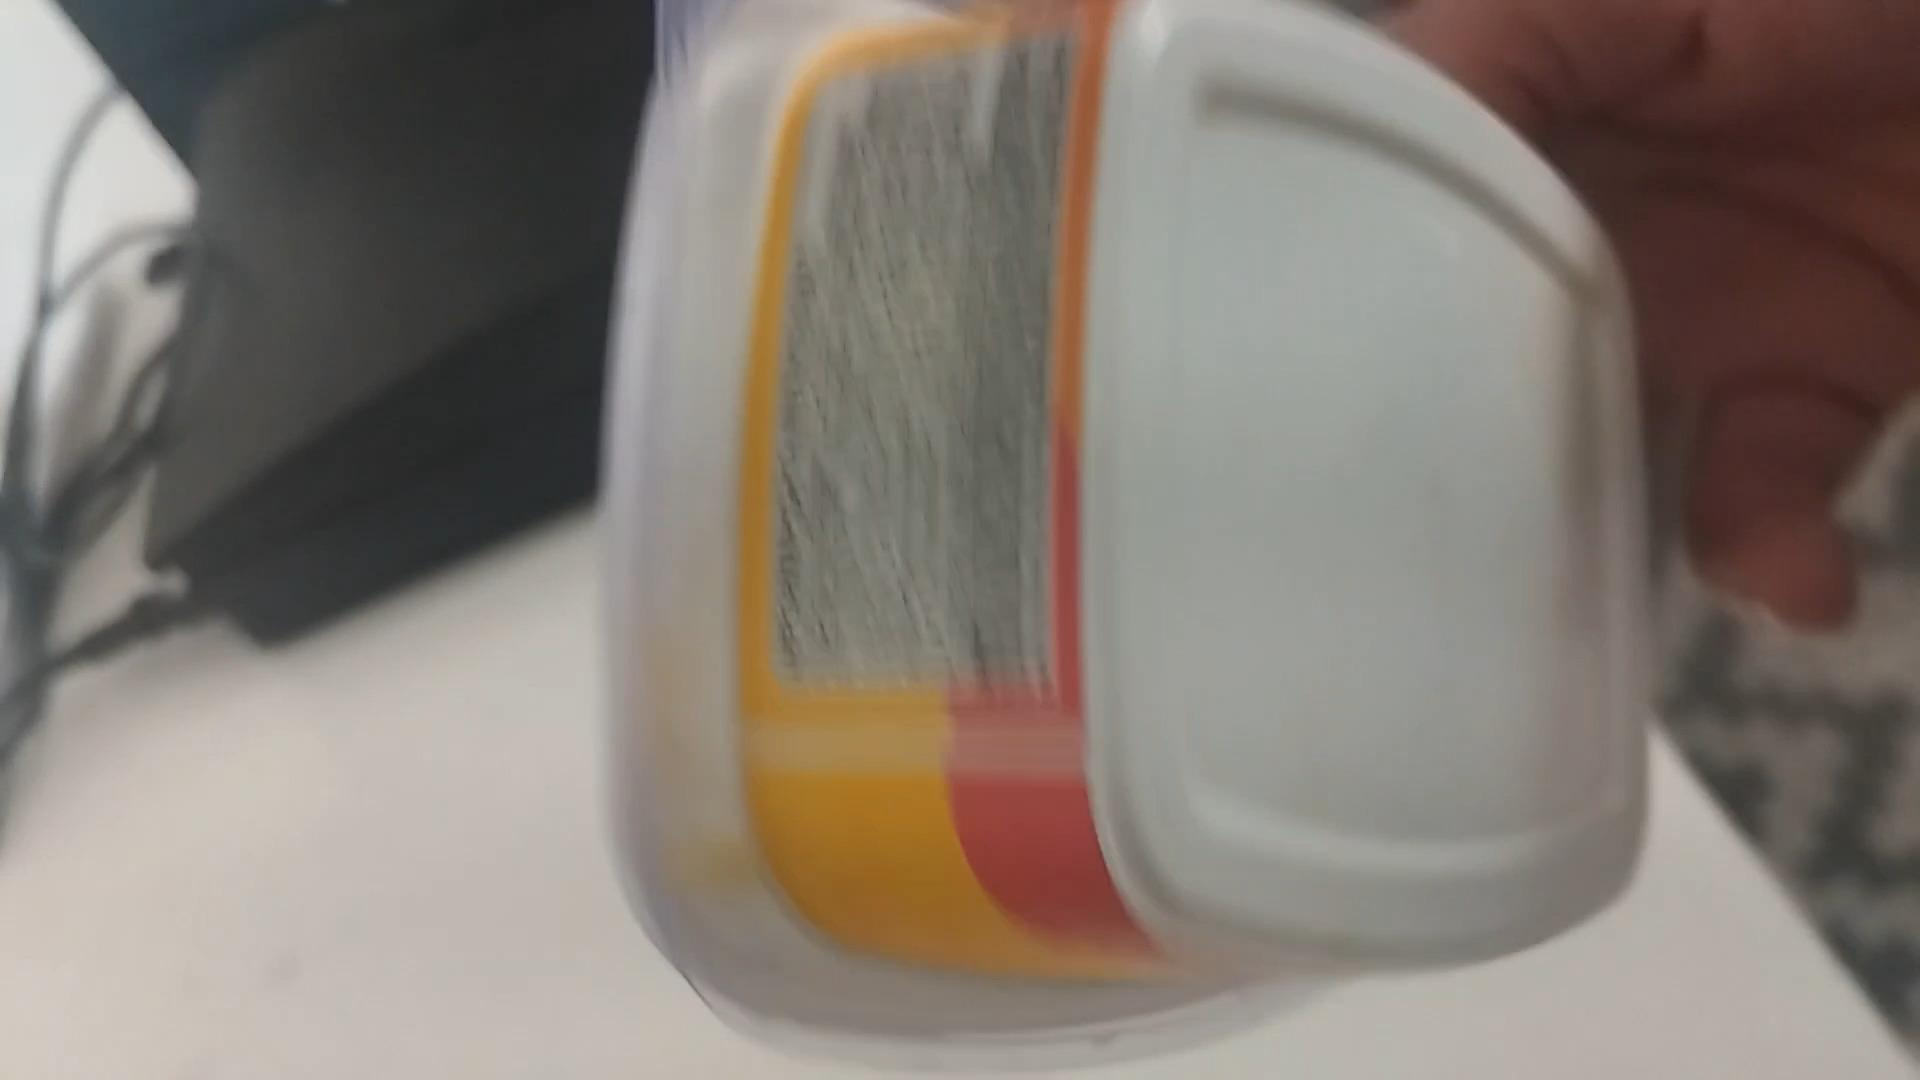butter: (599, 1, 1644, 1059)
